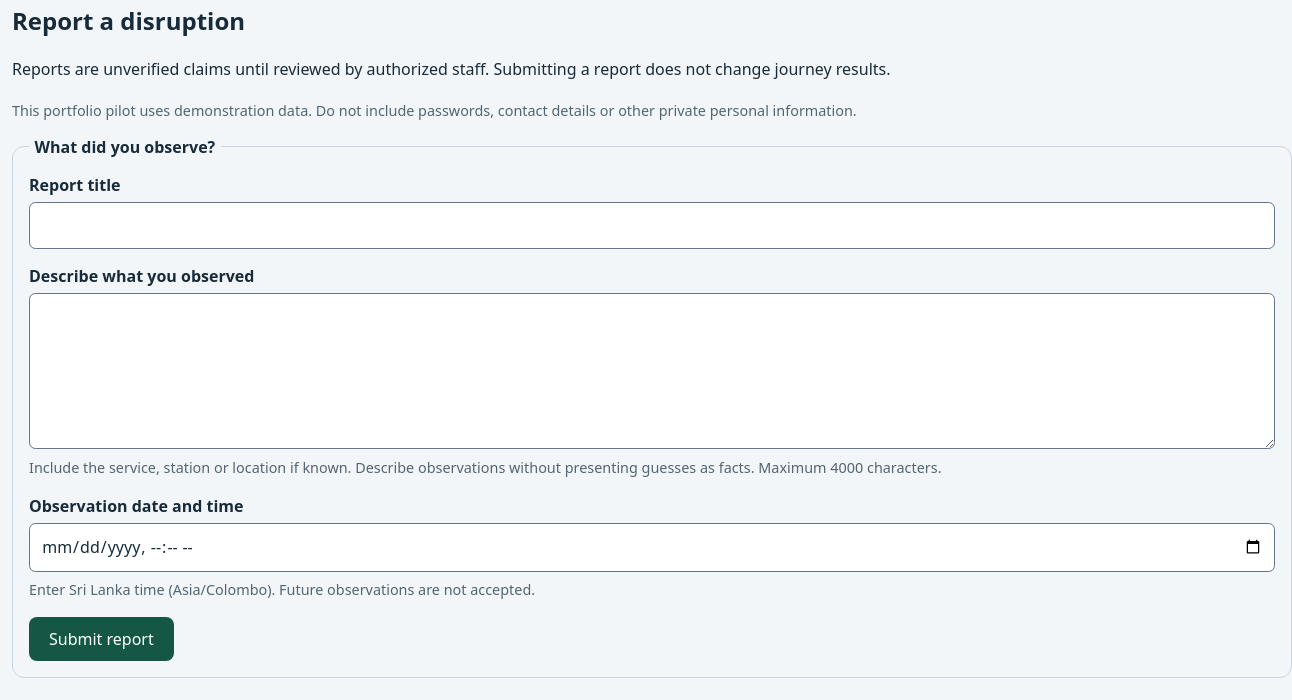
Scenario: Passenger report form › rejects future observation times
In the field labelled "Report title": (652, 226) [29, 202, 1275, 249], type "Synthetic station observation"
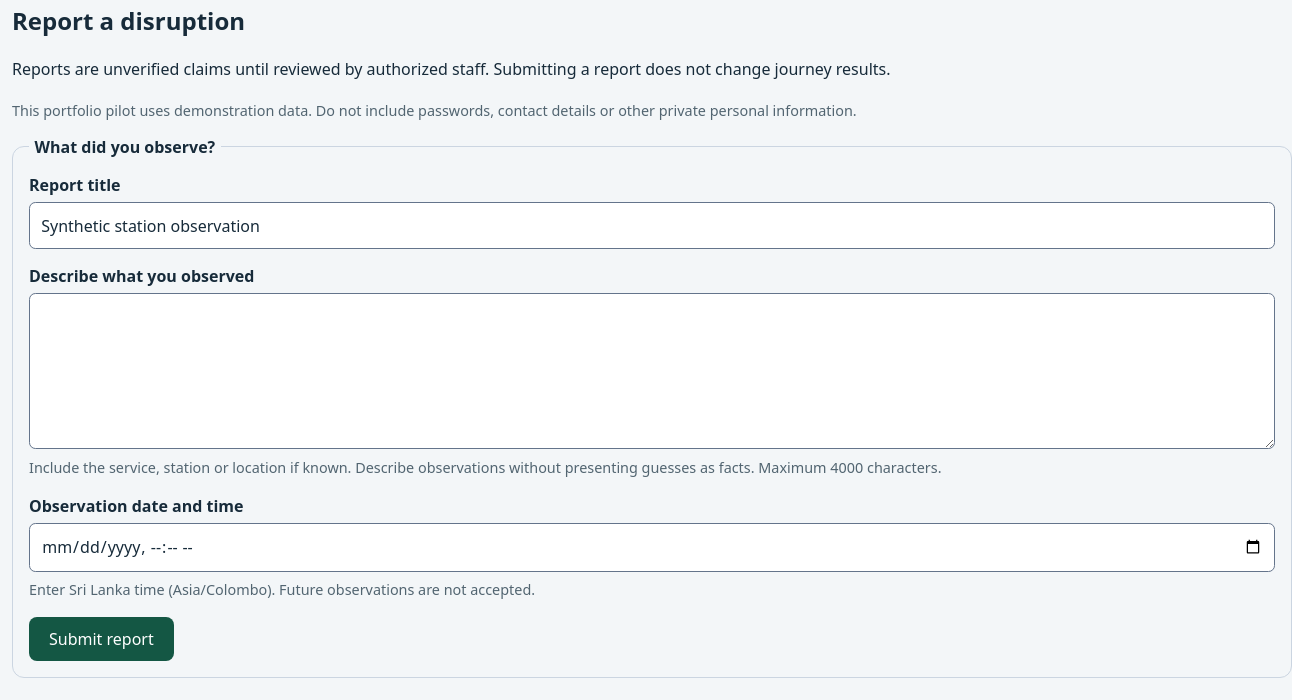
In the text box labelled "Describe what you observed": (652, 371) [29, 293, 1275, 450], type "A fictional observation for the portfolio demonstration."
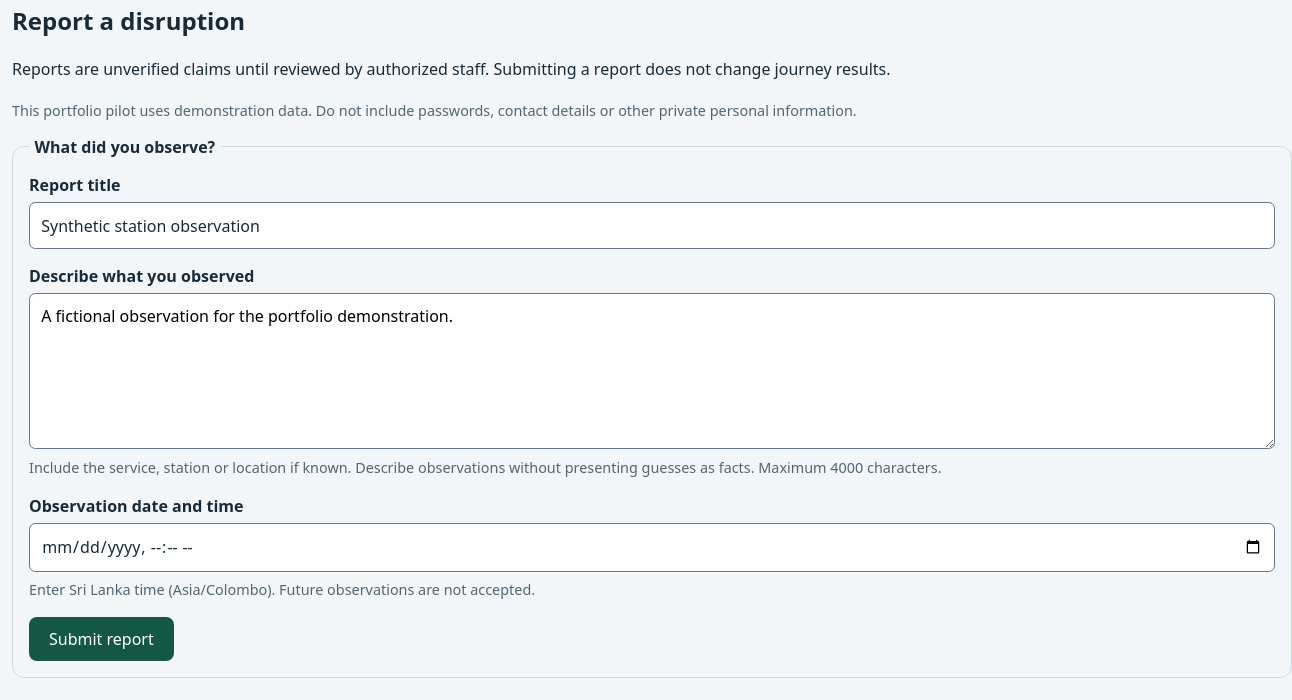
In the field labelled "Observation date and time": (652, 548) [29, 523, 1275, 572], type "2099-01-02T10:30"
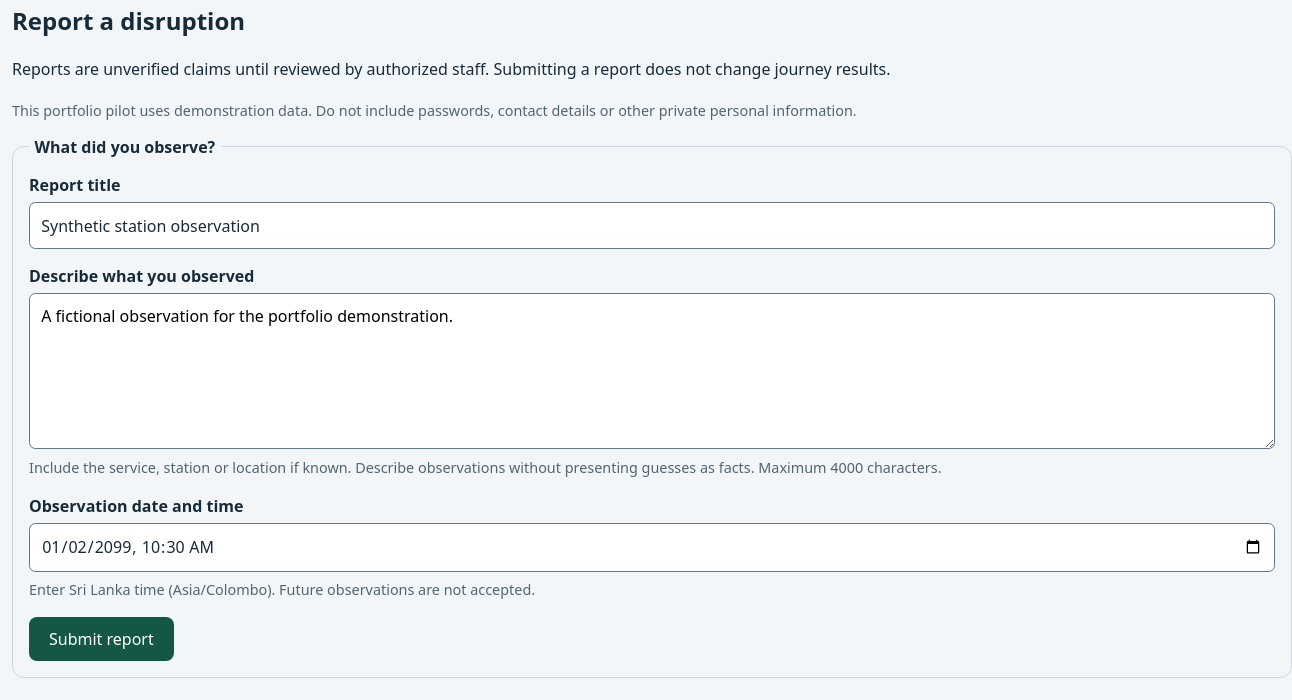
Click the button "Submit report": (101, 639) [29, 617, 174, 661]
(page scrolled)
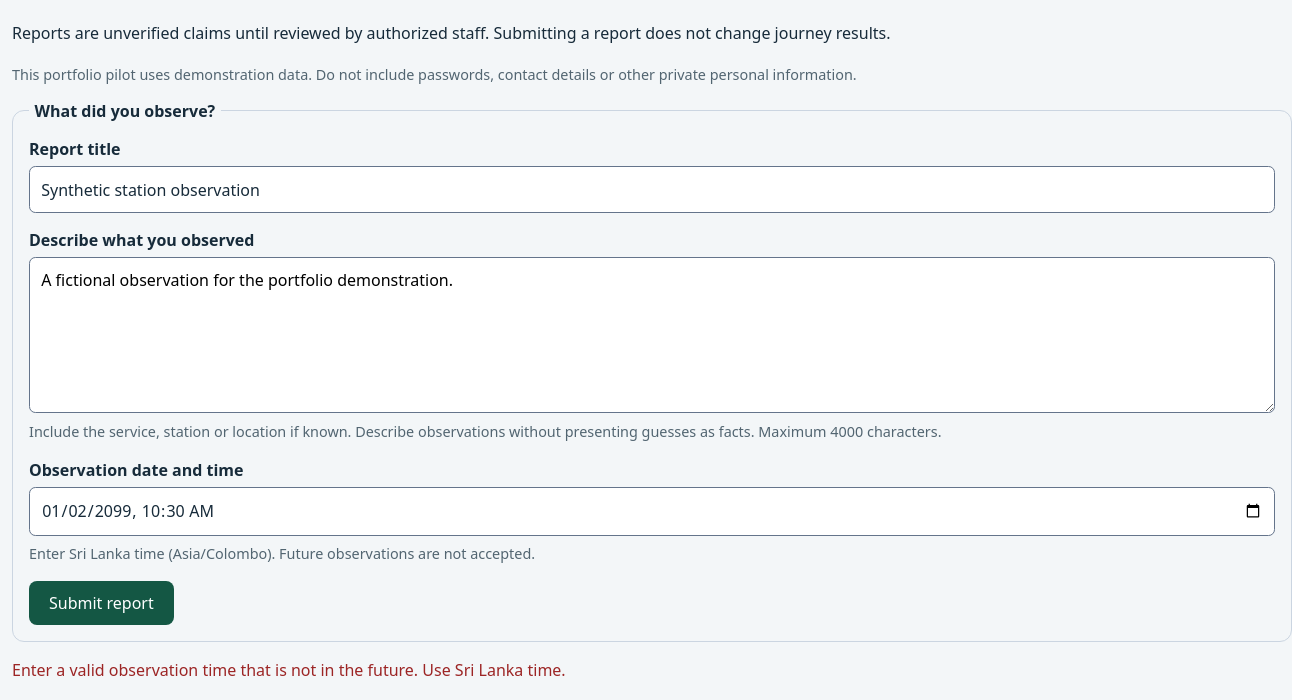
expect the message shows "not in the future": met, box [12, 659, 566, 681]
